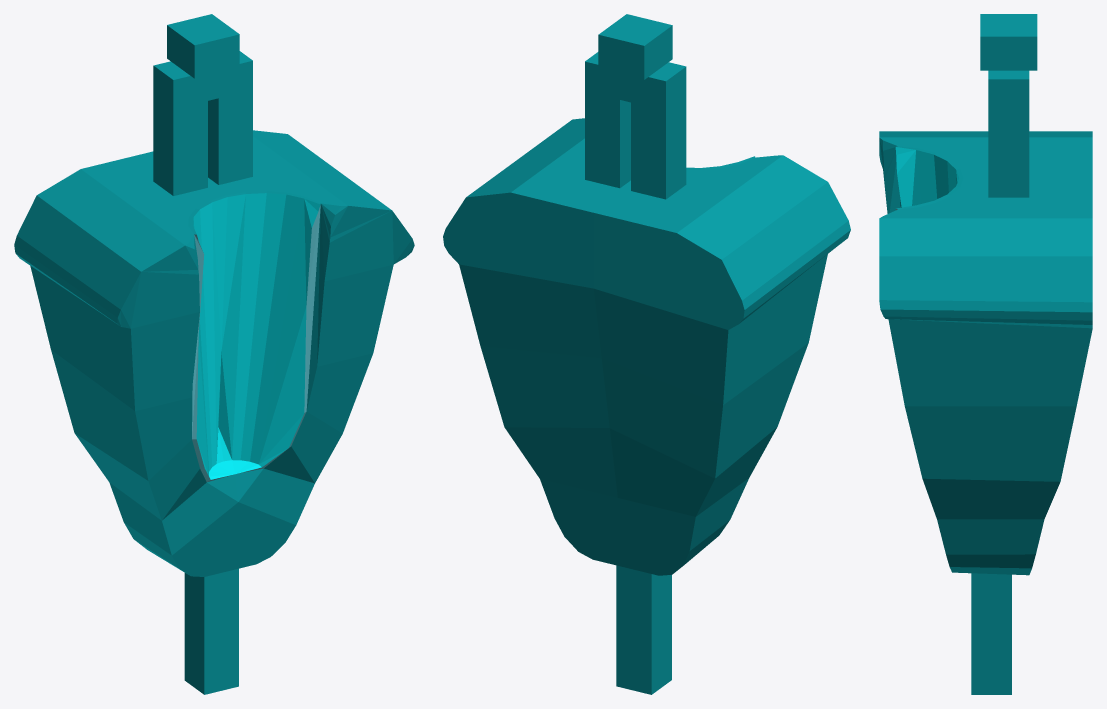
File: heartpoint.fbx
3 views of the same model, side by side, from view 1: azimuth 30°, elevation 25°; view 2: azimuth 150°, elevation 25°; view 3: azimuth 270°, elevation 25° (orthographic). The views are drawn at different scales.
Parts seen in each view (by area): view 1: Cube; view 2: Cube; view 3: Cube.
Part boxes in pixels (box(x1,y1,x2,y2)): Cube: box(14, 14, 414, 694); Cube: box(443, 14, 850, 694); Cube: box(879, 14, 1092, 694).
Bounding box in the file's own units: 224 × 466 × 136.
